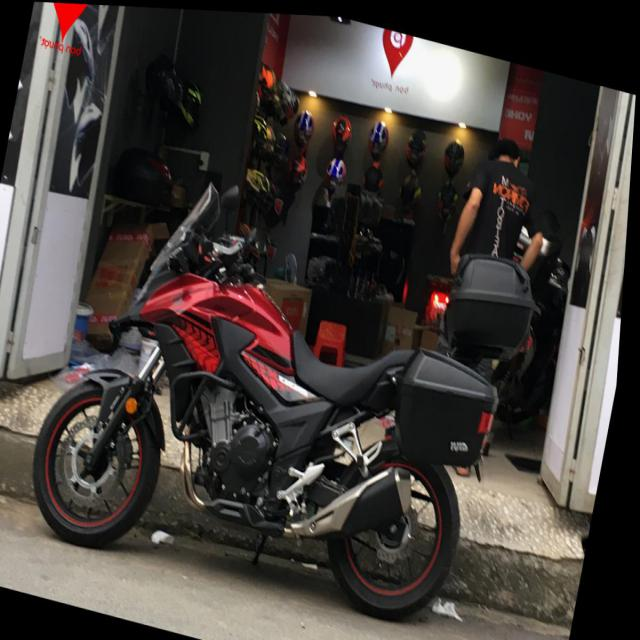CB500X: (21, 147, 533, 636)
